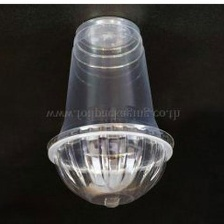glass: (40, 13, 177, 211)
